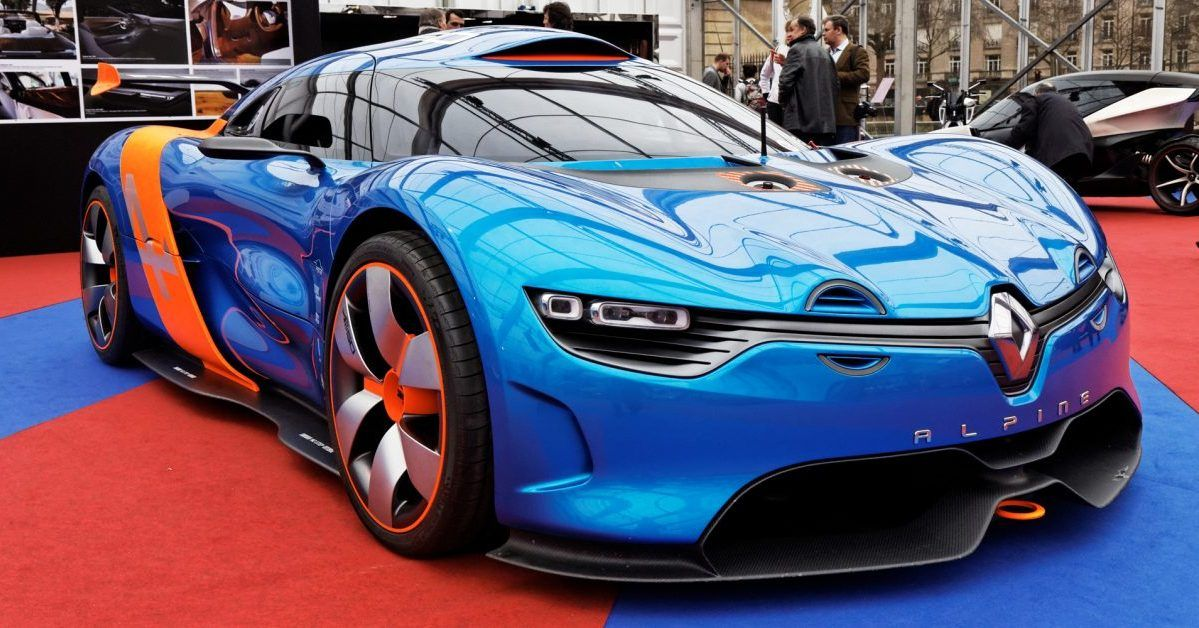headlight: (513, 264, 713, 350)
wheel: (297, 205, 496, 578), (69, 149, 156, 364), (1142, 135, 1199, 224)
